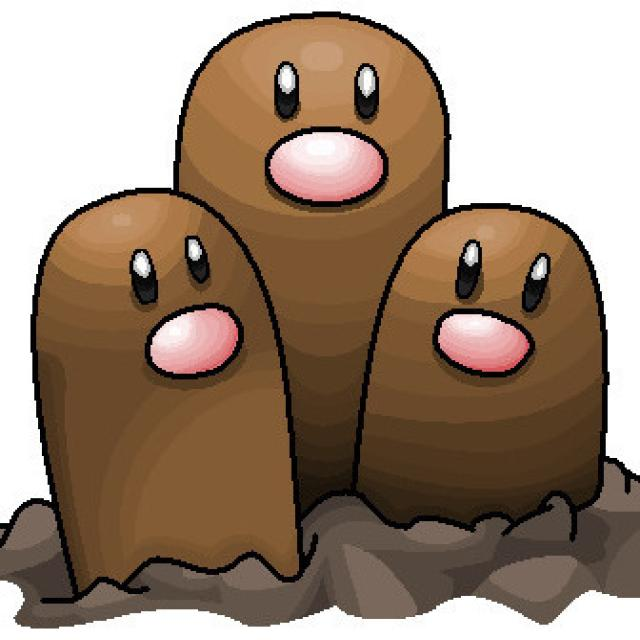Dugtrio: (41, 11, 621, 618)
